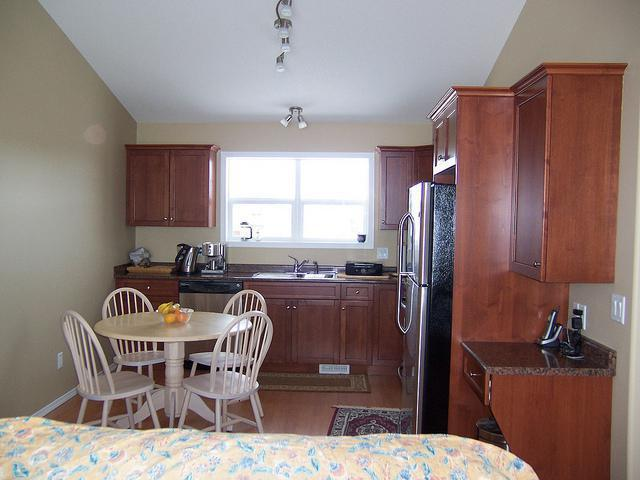Lavaplatos: (251, 253, 338, 285)
